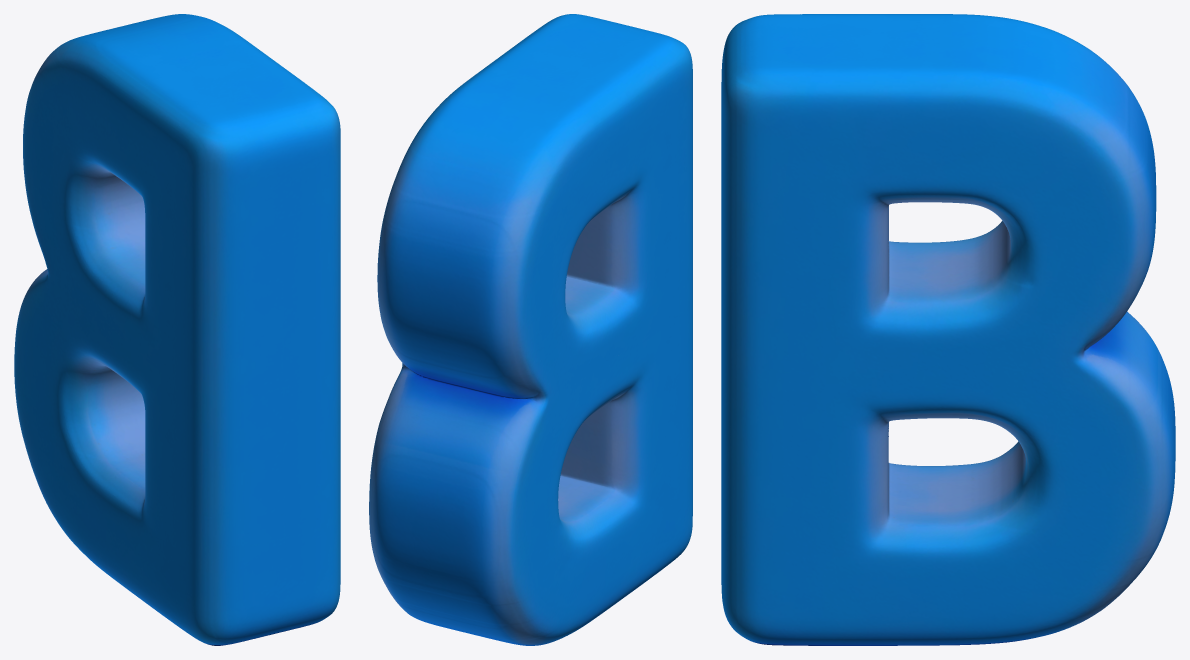
File: lettera b modello 3d.glb
3 renders of one model, left to right at view 1: azimuth 30°, elevation 25°; view 2: azimuth 150°, elevation 25°; view 3: azimuth 270°, elevation 25°, orthographic. The views are drawn at different scales.
Visible parts, largest first — view 1: tripo_node_aea4e591-3825-4bb7-83c9-b5d97cbc9bb8; view 2: tripo_node_aea4e591-3825-4bb7-83c9-b5d97cbc9bb8; view 3: tripo_node_aea4e591-3825-4bb7-83c9-b5d97cbc9bb8.
Part boxes in pixels (left/top/right/bottom): tripo_node_aea4e591-3825-4bb7-83c9-b5d97cbc9bb8: left=14, top=14, right=340, bottom=645; tripo_node_aea4e591-3825-4bb7-83c9-b5d97cbc9bb8: left=369, top=14, right=692, bottom=645; tripo_node_aea4e591-3825-4bb7-83c9-b5d97cbc9bb8: left=721, top=14, right=1175, bottom=645.
Bounding box in the file's own units: 0.2927 × 1 × 0.7141.
1 material, 1 textured.
